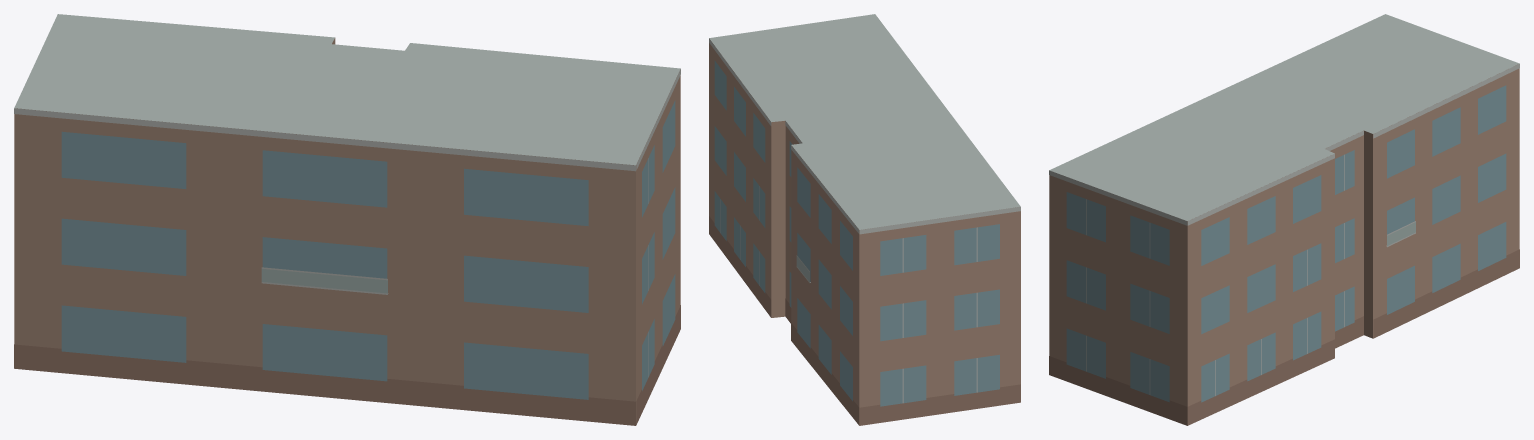
Rendered from survey-upis-32534265.glb.
3 renders of one model, left to right at view 1: azimuth 30°, elevation 25°; view 2: azimuth 150°, elevation 25°; view 3: azimuth 270°, elevation 25°, orthographic. The views are drawn at different scales.
Visible parts, largest first — view 1: survey-upis-32534265.tmp; view 2: survey-upis-32534265.tmp; view 3: survey-upis-32534265.tmp.
Boxes of the visible parts, box(x1,y1,x2,y2) form: survey-upis-32534265.tmp: box(14, 14, 680, 425); survey-upis-32534265.tmp: box(709, 14, 1020, 425); survey-upis-32534265.tmp: box(1049, 14, 1519, 425).
Size of the model in its own units: 23.24 by 10.7 by 22.31.
